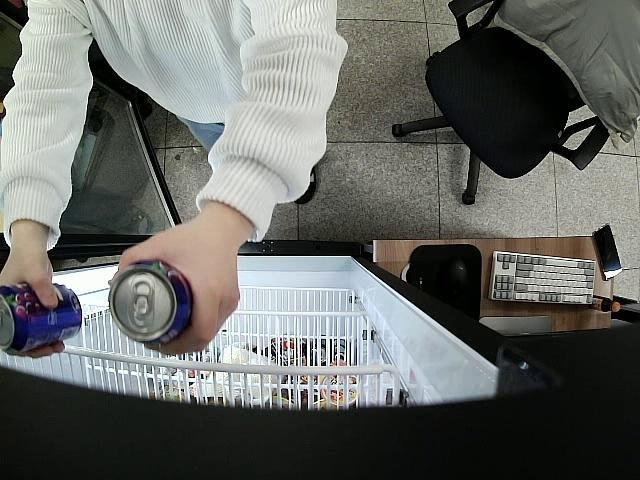14_welchsGrape: (109, 260, 192, 347), (0, 279, 81, 357)
